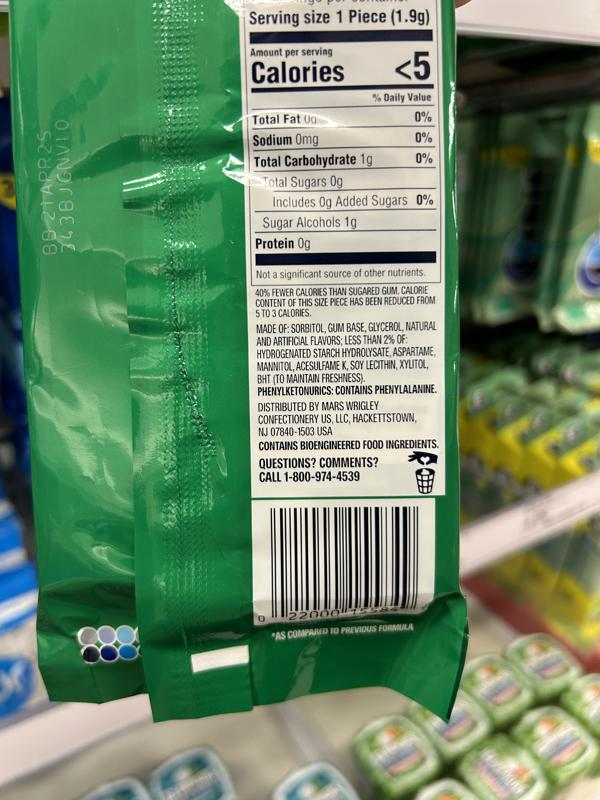ingredients: (254, 320, 439, 385)
